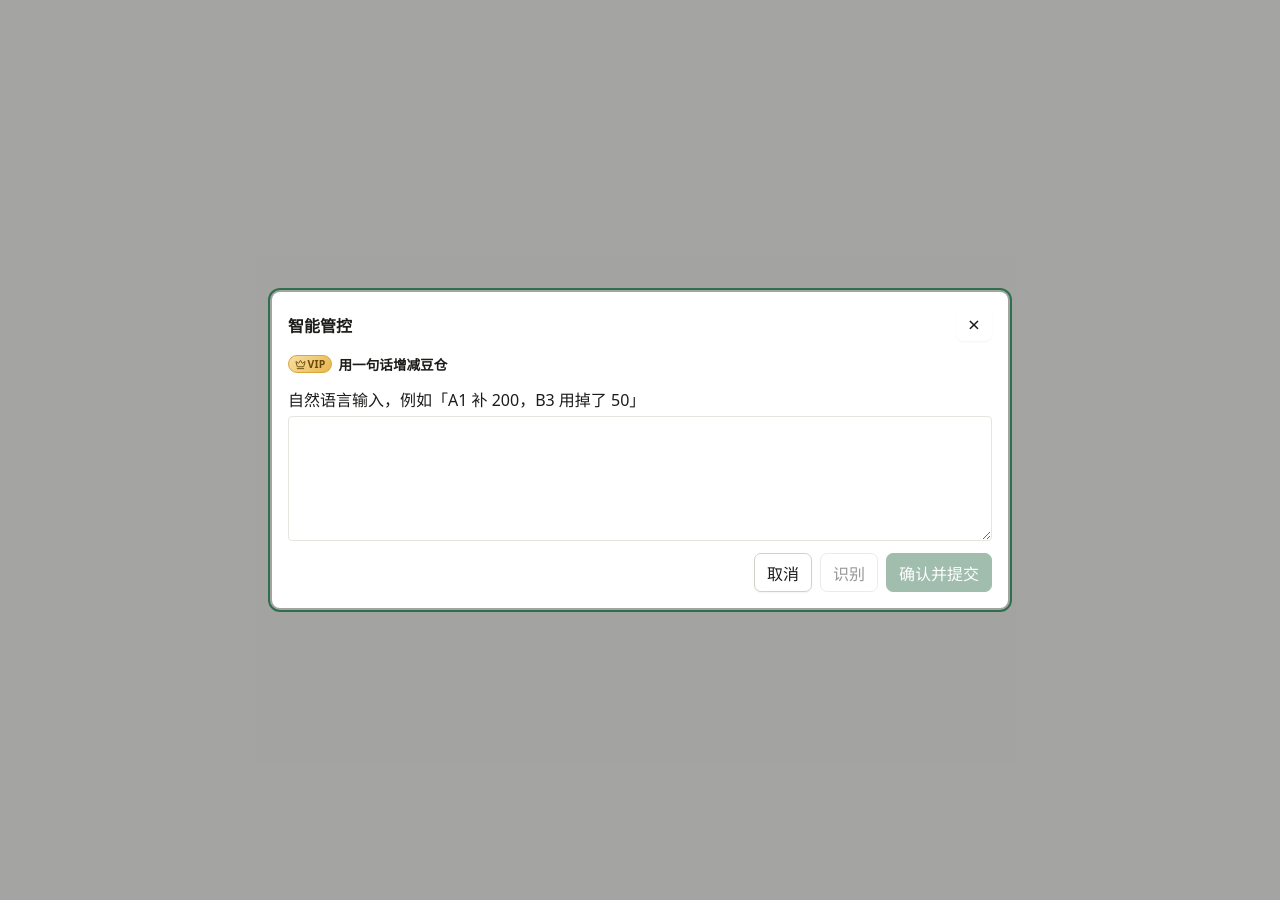
Scenario: SmartControlDialog › an unknown code blocks submission and says why
The image size is (1280, 900).
Type "A1 补 200，B3 用掉了 50" into the text box labelled "自然语言输入".
click(640, 478); type("A1 补 200，B3 用掉了 50")  # box [288,416,992,541]
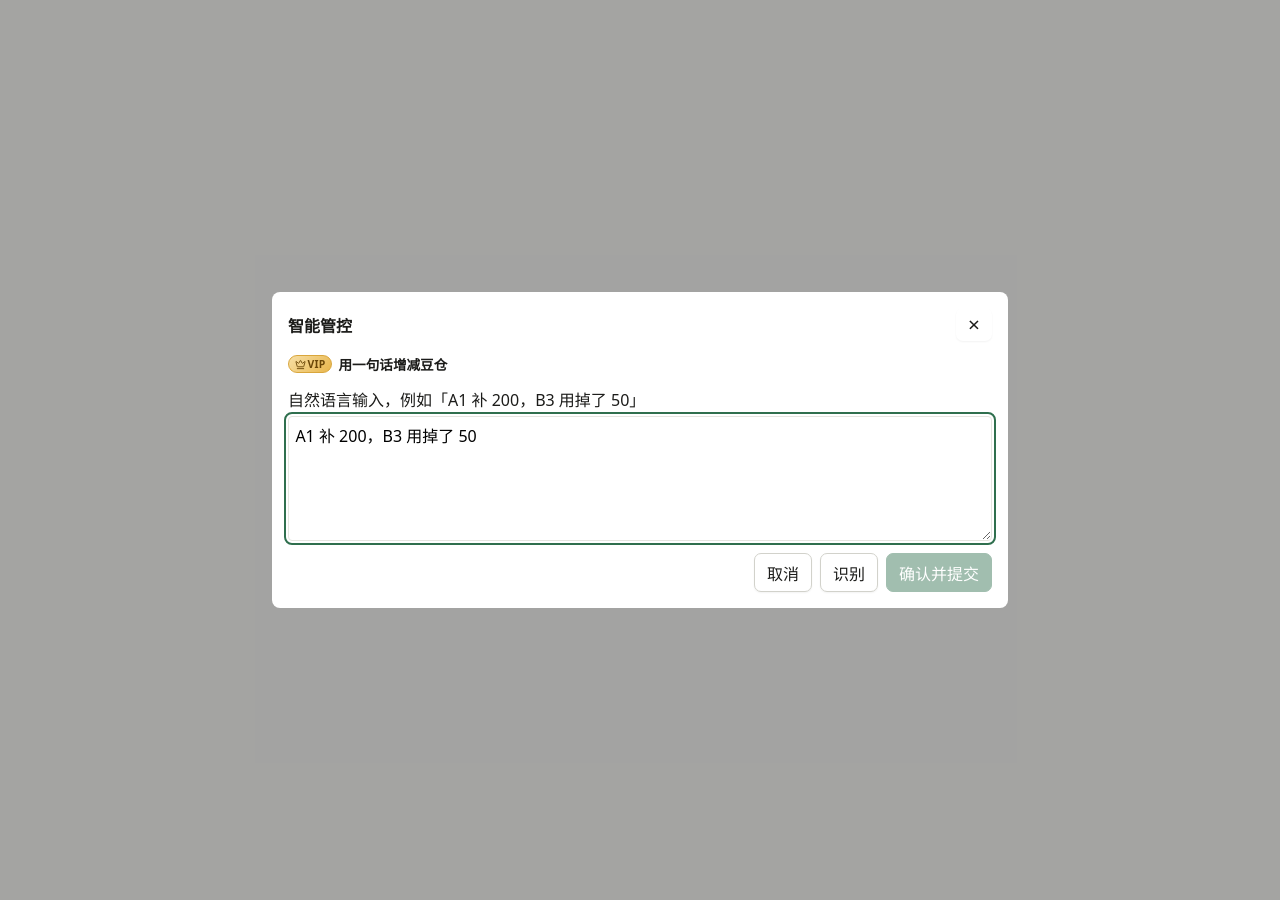
Click the button "识别".
click(849, 573)  # box [820,553,878,592]
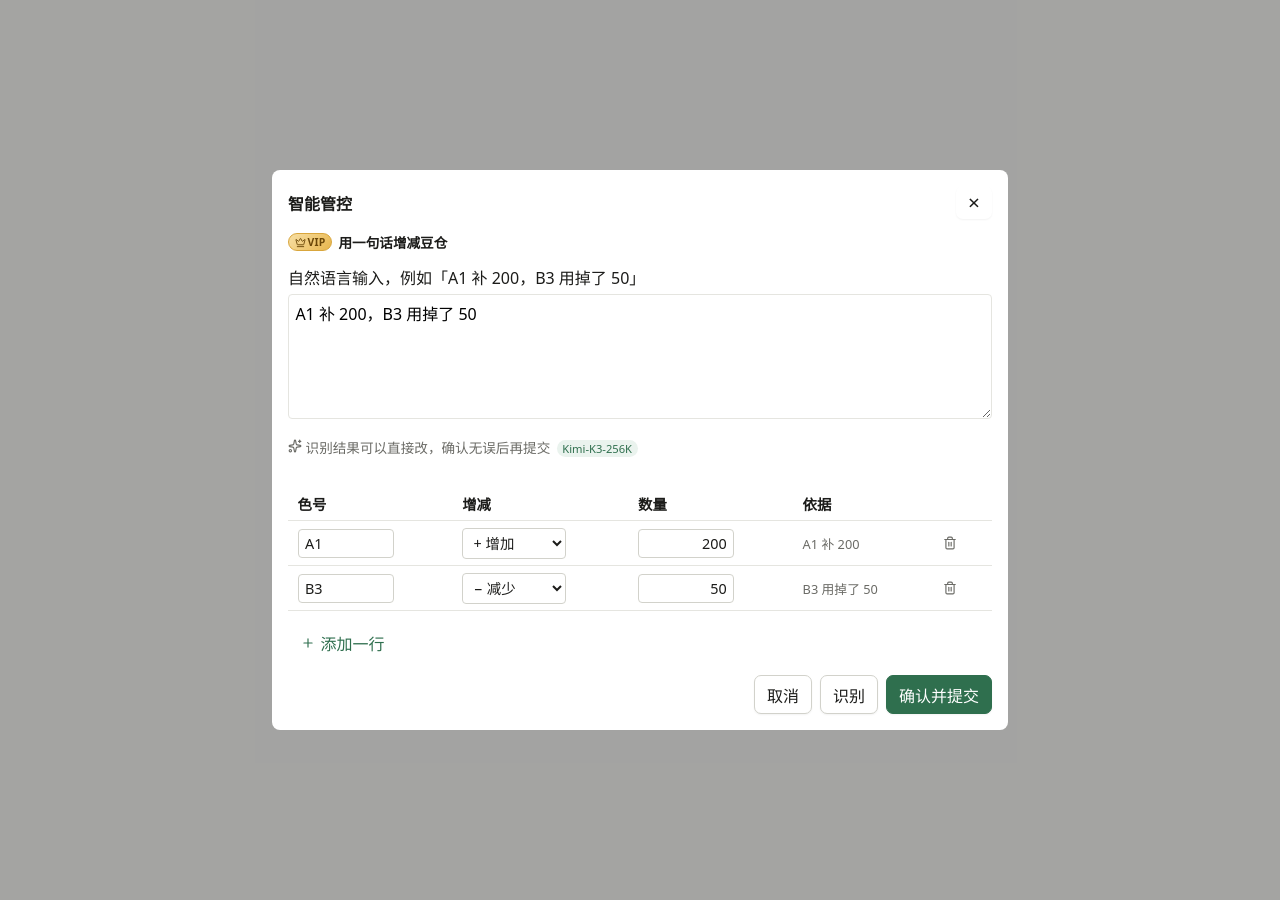
Replace the text in the field named "第 1 行 色号" with "ZZZ9" at (346, 543), box [298,529,394,558]
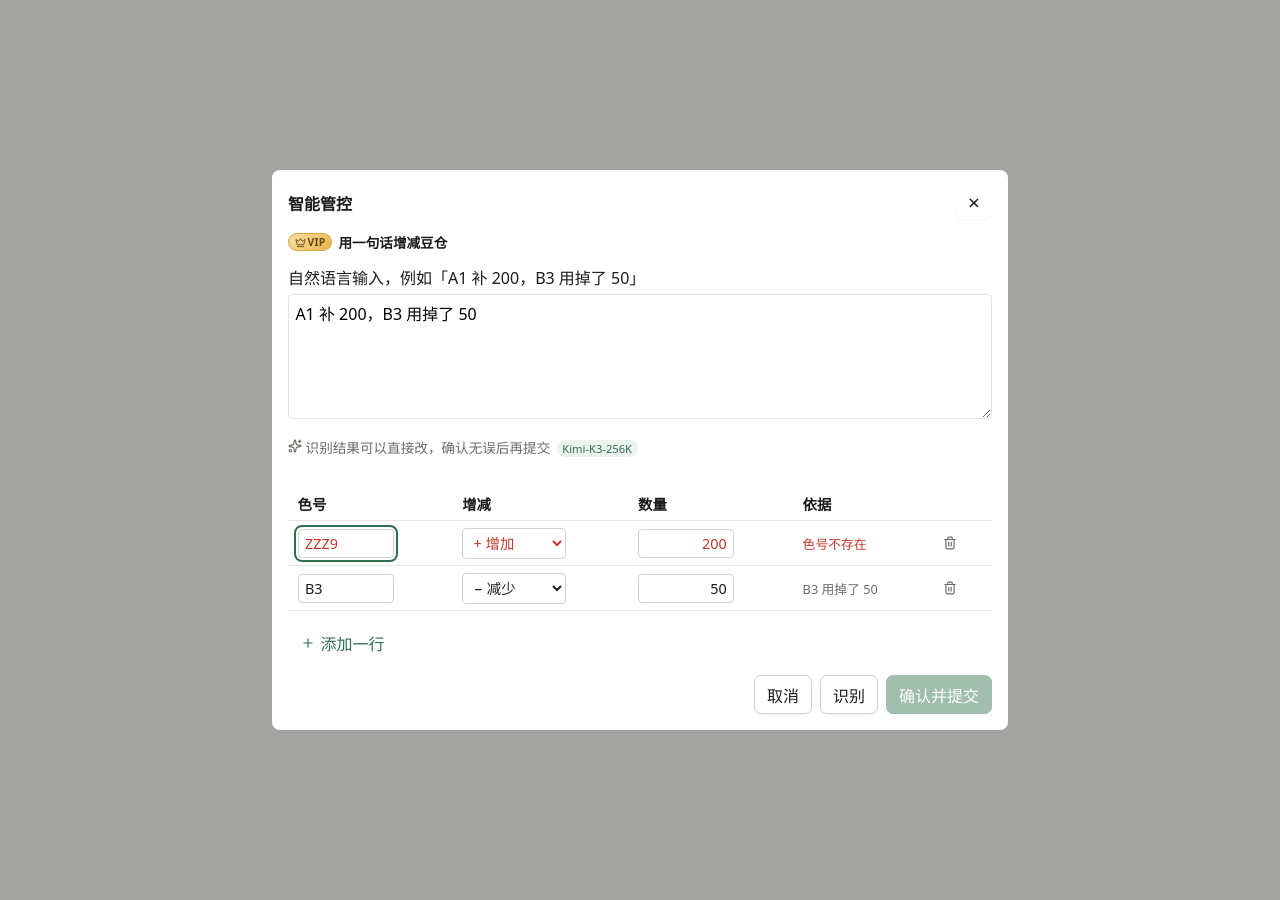
Now the button "确认并提交" is disabled, box [886,675,992,714]
Now the text "色号不存在" is shown, box [793,521,928,566]
